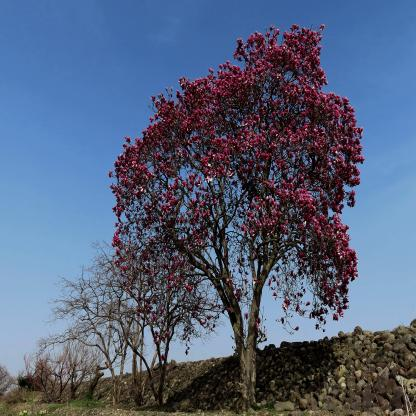Mokuren: (108, 22, 364, 347)
